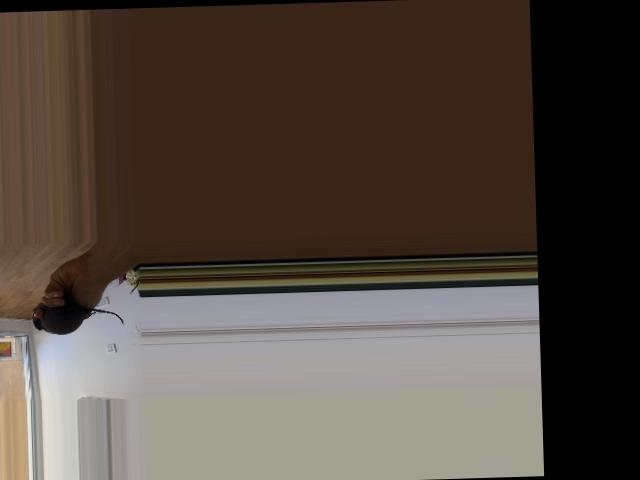beet: (31, 302, 123, 334)
